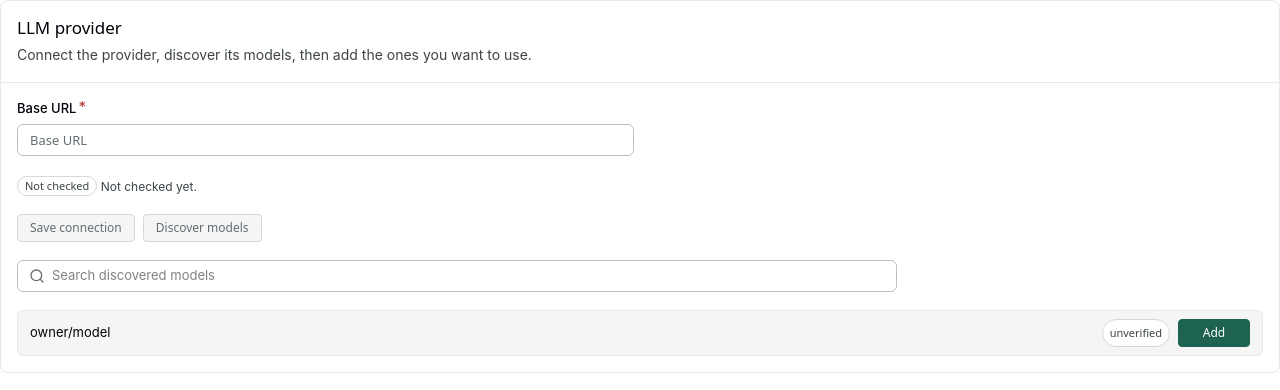
Test: LlmProviderPanel › marks manifest connection config as required and blocks incomplete actions
Expected: the text "owner/model" is shown, [30,324,110,340]
Expected: the text "*" is shown, [78,99,86,114]
In the field labelled "Base URL *": (326, 140) [17,124,634,156], type "https://acme-llm.example.com"
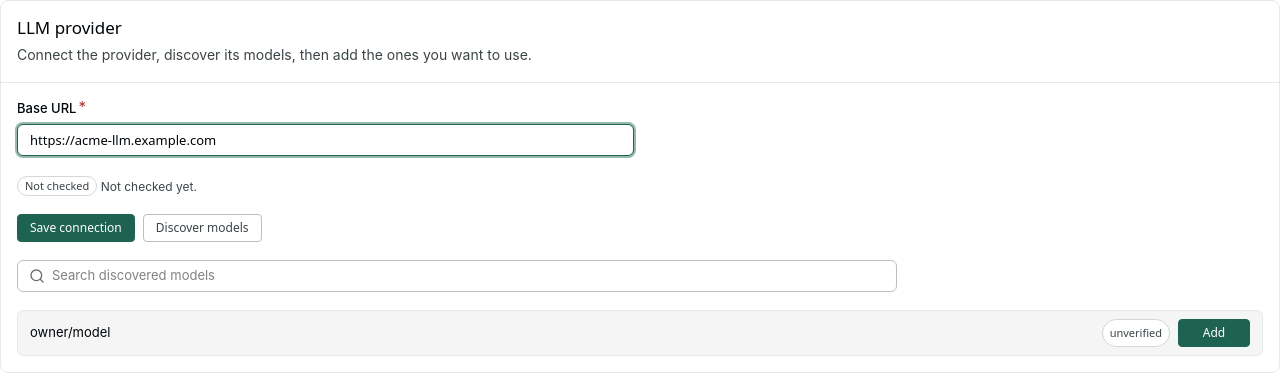
Result: the button "Save connection" is enabled at [17,214,135,242]
Result: the button "Discover models" is enabled at [143,214,262,242]
